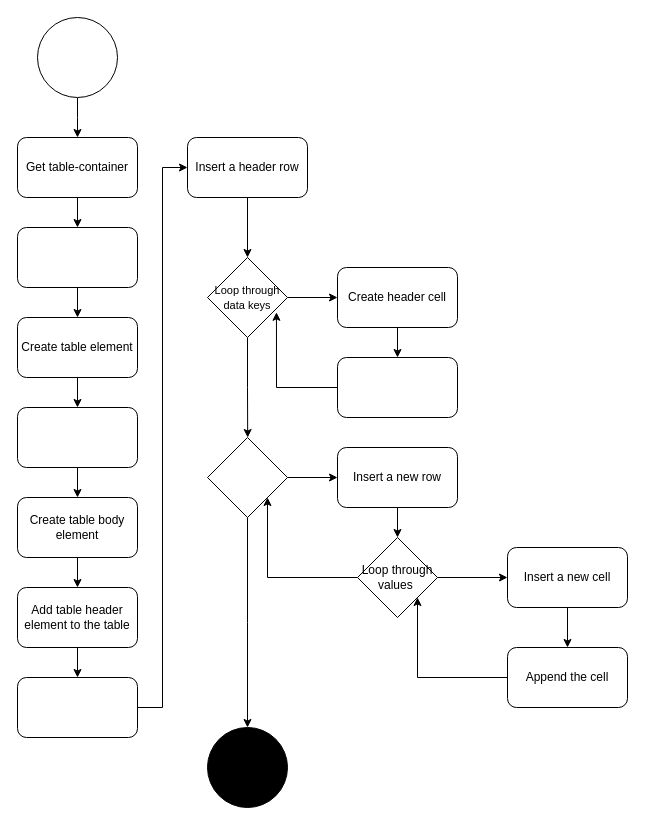
The diagram is 645 pixels wide and 825 high, and some of its shapes have lost their labels. Here are the shapes that lost their labels. From the top down, the box of each, then its label:
(16, 226, 138, 288): Set container to empty
(336, 356, 458, 418): Append header cell
(16, 406, 138, 468): Create table header element
(206, 436, 288, 518): Loop through array items
(16, 676, 138, 738): Add table body element to the table
